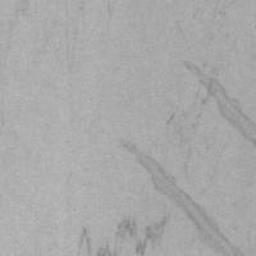Water spot: (116, 138, 250, 256), (179, 59, 256, 148), (77, 215, 168, 256)
